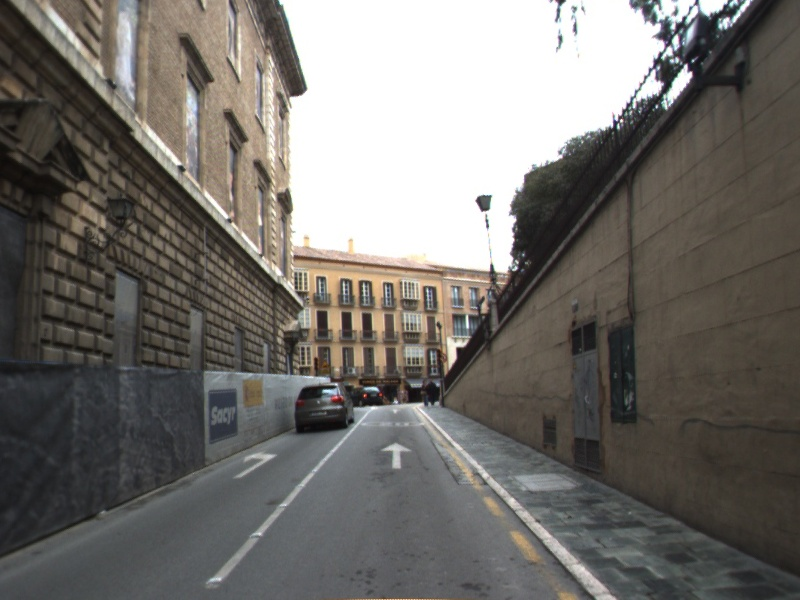LEFT: (231, 448, 279, 480)
STRAIGHT: (378, 440, 414, 471)
